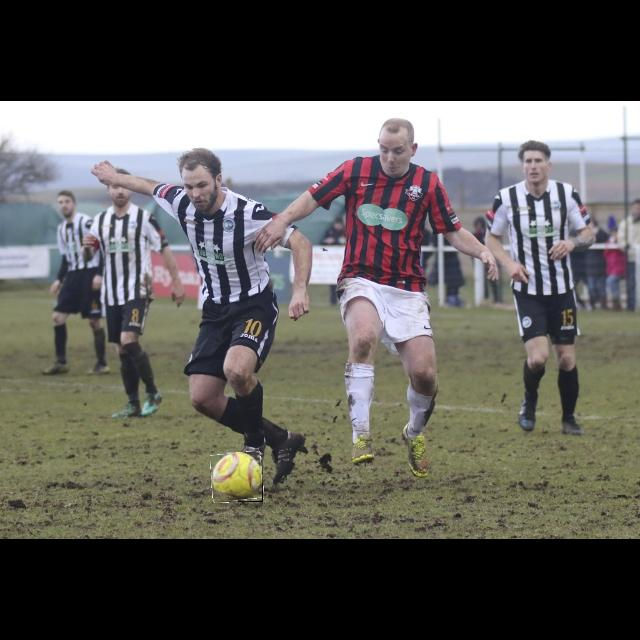Football: (211, 452, 263, 502)
